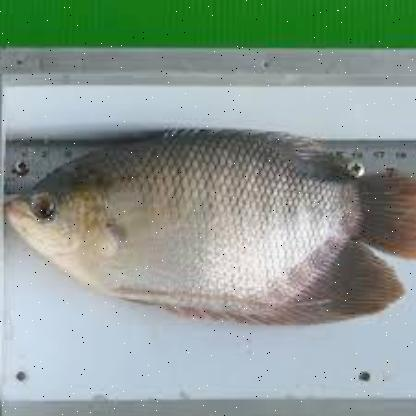gurame: (10, 131, 414, 327)
